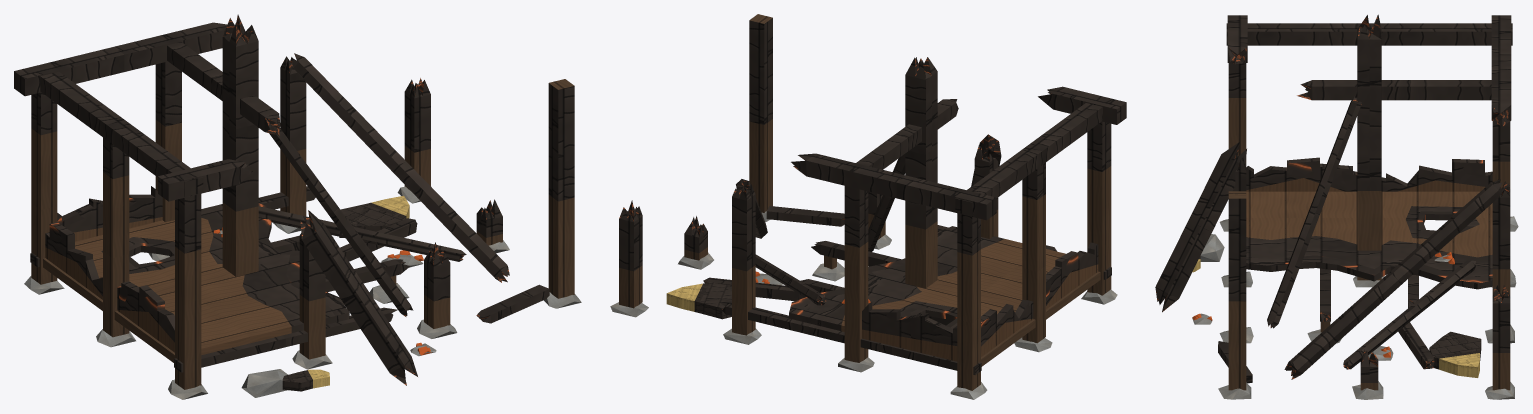
The model's file is oni_house_b.fbx.
3 views of the same model, side by side, from view 1: azimuth 30°, elevation 25°; view 2: azimuth 150°, elevation 25°; view 3: azimuth 270°, elevation 25° (orthographic). The views are drawn at different scales.
Visible parts, largest first — view 1: oni_house_b_Frame, oni_house_b_Debris, oni_house_b_Floor, oni_house_b_Walls, oni_house_b_Stone; view 2: oni_house_b_Frame, oni_house_b_Floor, oni_house_b_Walls, oni_house_b_Debris, oni_house_b_Stone; view 3: oni_house_b_Frame, oni_house_b_Debris, oni_house_b_Floor, oni_house_b_Walls, oni_house_b_Stone.
Part boxes in pixels (box(x1,y1,x2,y2)): oni_house_b_Frame: box(14, 14, 574, 389); oni_house_b_Debris: box(219, 53, 549, 391); oni_house_b_Floor: box(75, 203, 349, 354); oni_house_b_Walls: box(45, 186, 174, 352); oni_house_b_Stone: box(24, 186, 581, 399); oni_house_b_Frame: box(619, 14, 1126, 390); oni_house_b_Floor: box(789, 226, 1065, 331); oni_house_b_Walls: box(862, 242, 1098, 361); oni_house_b_Debris: box(666, 134, 1056, 319); oni_house_b_Stone: box(610, 211, 1117, 399); oni_house_b_Frame: box(1226, 14, 1512, 390); oni_house_b_Debris: box(1155, 96, 1502, 383); oni_house_b_Floor: box(1246, 191, 1492, 289); oni_house_b_Walls: box(1246, 157, 1492, 191); oni_house_b_Stone: box(1200, 216, 1518, 399).
Bounding box in the file's own units: 20 × 13.73 × 16.52.
Materials: 1 (1 with a texture image).
